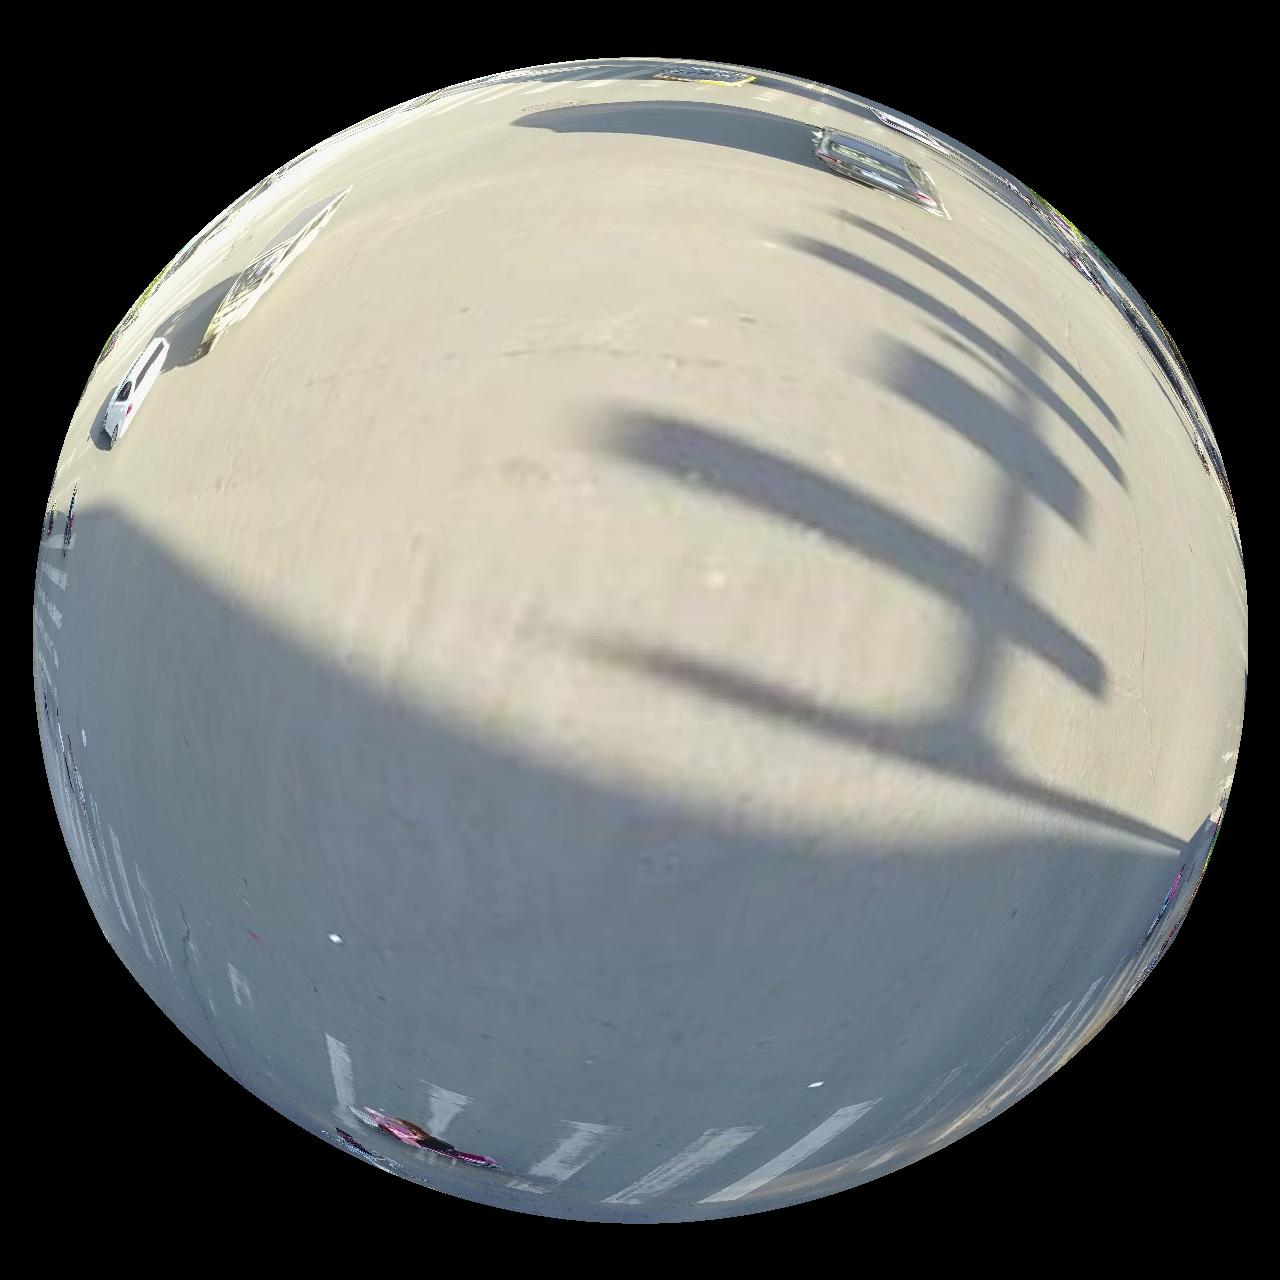cars: (195, 186, 350, 358), (812, 126, 948, 214), (100, 336, 169, 446)
